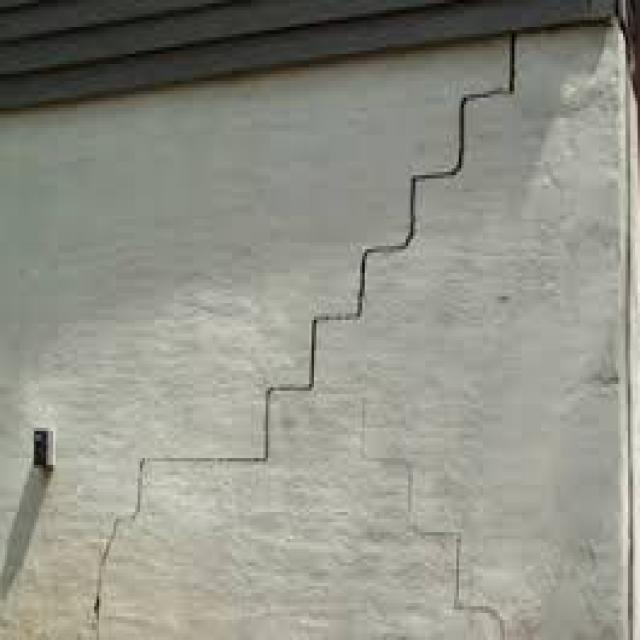Crack: (87, 31, 522, 616)
